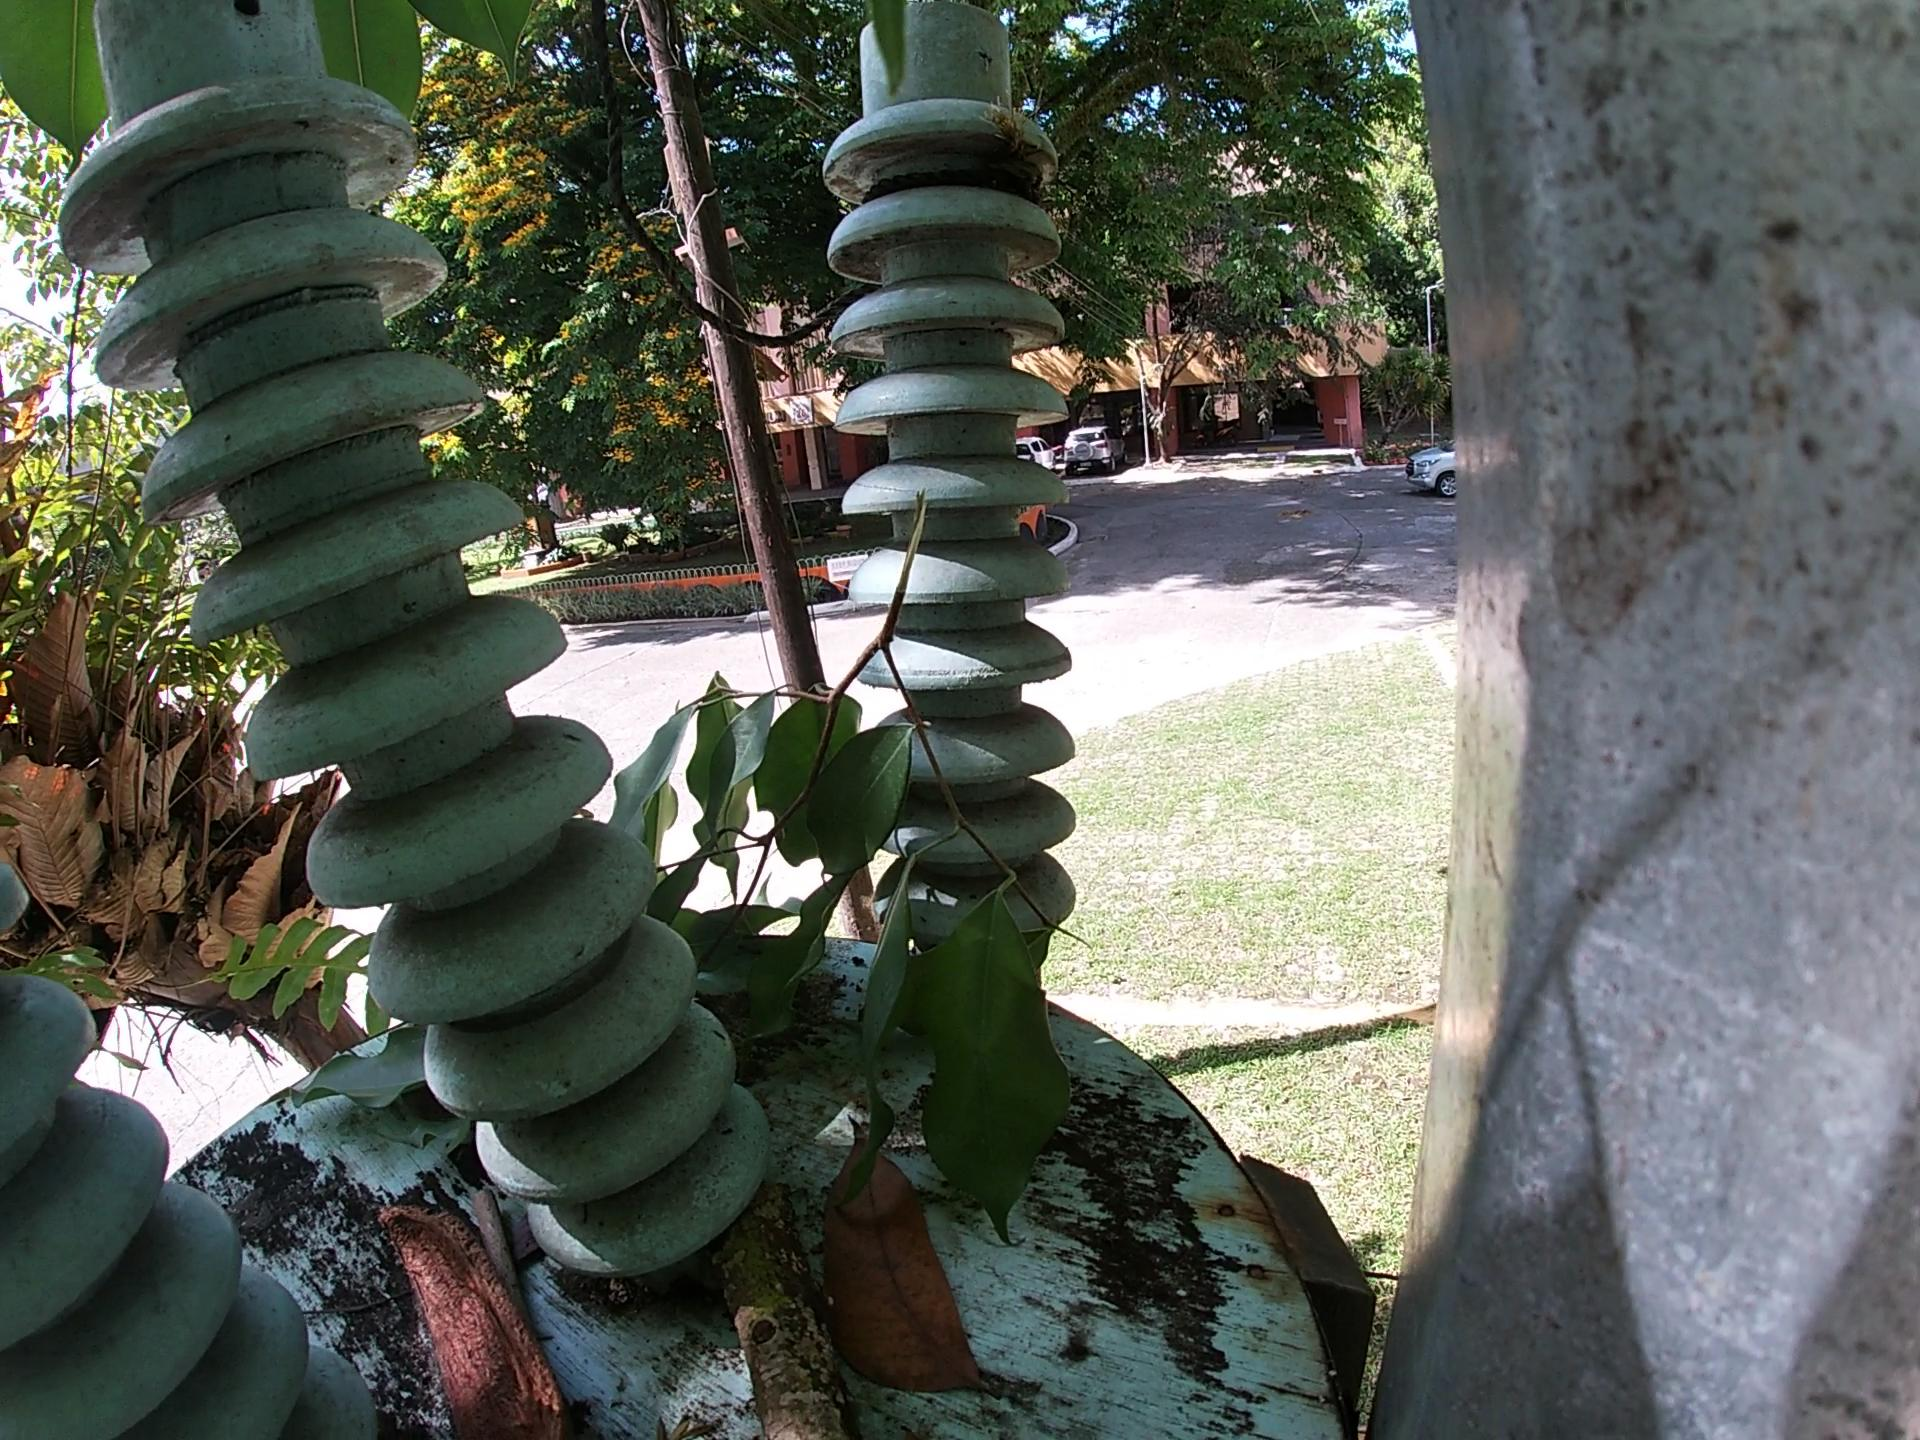branch with leaves: (582, 475, 1101, 1249)
leaf: (819, 1119, 1014, 1395), (280, 1030, 475, 1131)
mahogany fruit: (358, 1199, 584, 1440)
tree branch: (714, 1234, 833, 1440), (464, 1190, 531, 1284)
